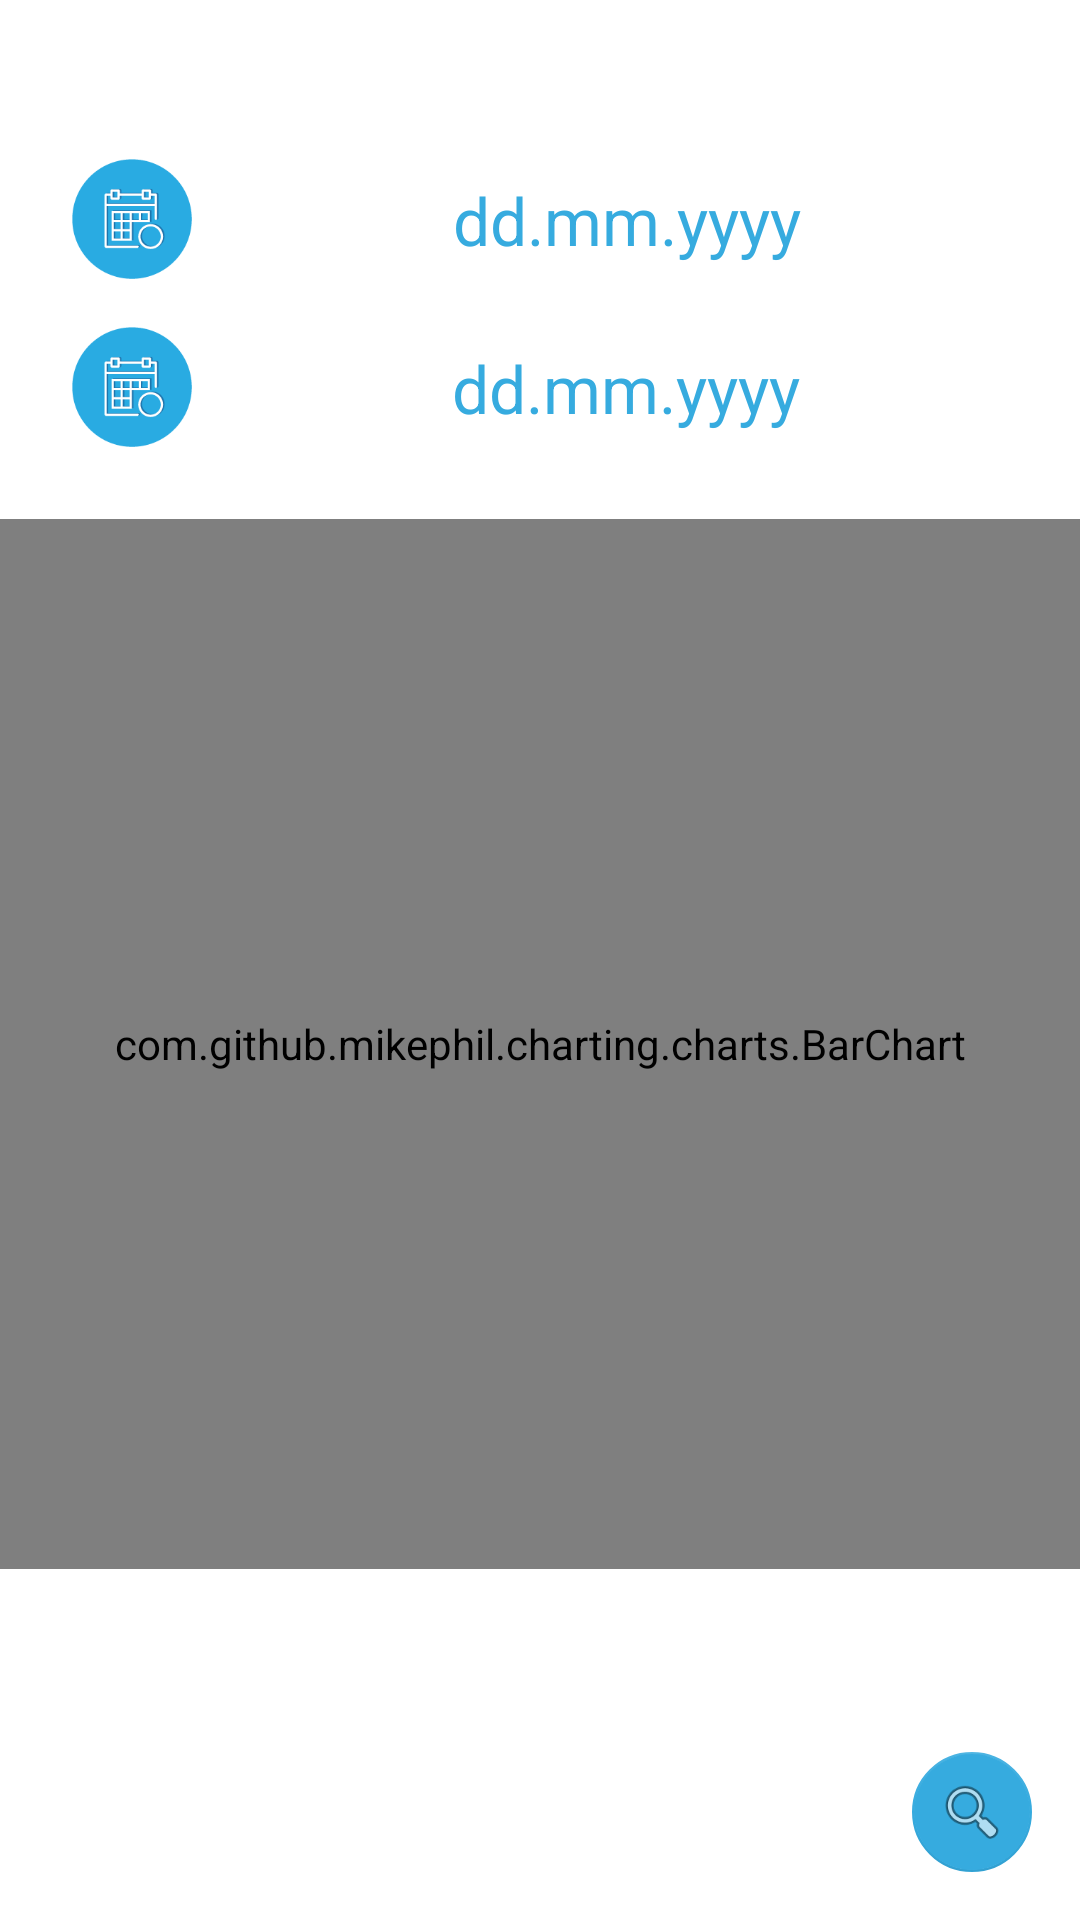

Point at icon controls on the screen. Image size 1080 × 1920, points as [x,y].
callendar: [132,219], [132,387]
search: [972,1812]
